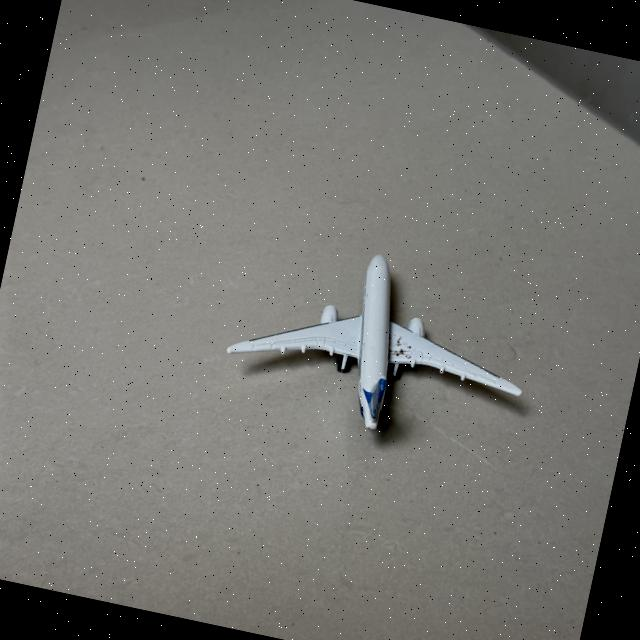air-plane: (227, 254, 521, 429)
